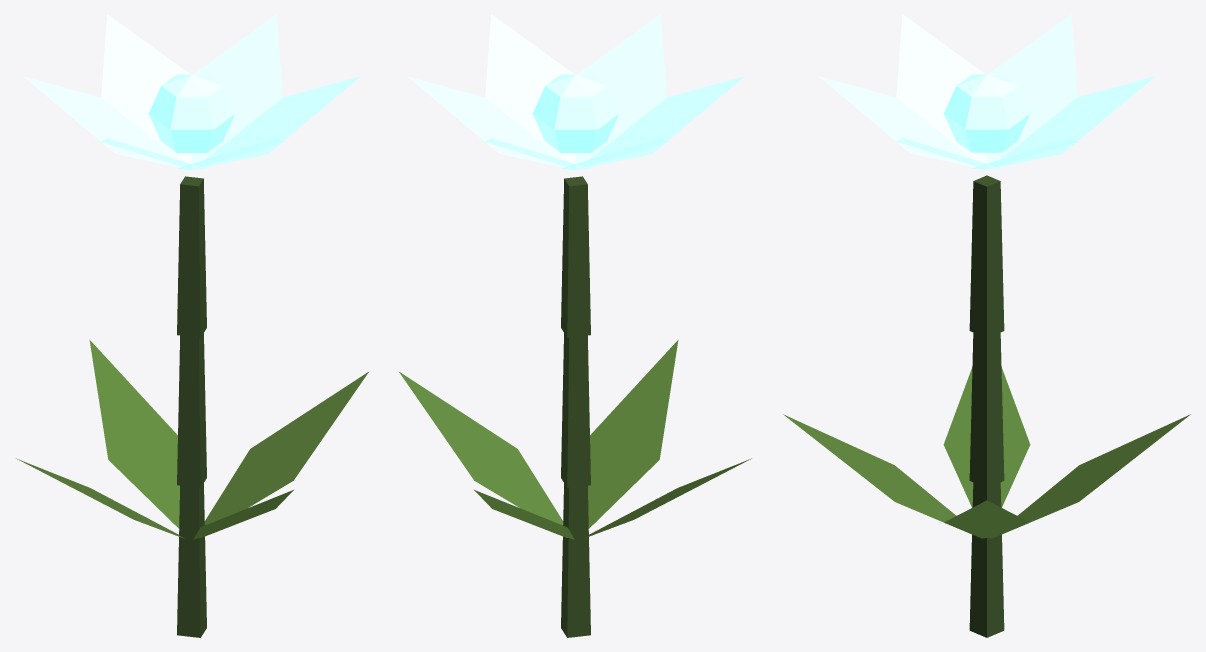
File: crop_moonflower_stage2.glb
The picture shows the model from 3 angles, left to right: view 1: azimuth 30°, elevation 25°; view 2: azimuth 150°, elevation 25°; view 3: azimuth 270°, elevation 25°; orthographic projection.
Parts seen in each view (by area): view 1: Crop; view 2: Crop; view 3: Crop.
Boxes of the visible parts, x1,y1,x2,y2 form: Crop: (16, 14, 368, 637); Crop: (399, 14, 751, 637); Crop: (783, 14, 1190, 637).
Bounding box in the file's own units: 0.3301 × 0.495 × 0.3301.
